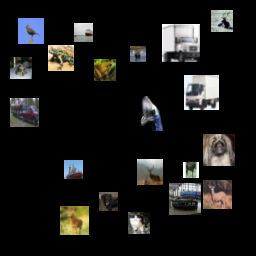automobile: (169, 183, 201, 215)
bird: (130, 96, 165, 131), (18, 18, 44, 44)
cat: (128, 212, 150, 234)
deer: (203, 180, 232, 209), (60, 206, 89, 235), (137, 159, 163, 185), (211, 10, 233, 32), (130, 46, 146, 62)
dog: (203, 134, 235, 166), (10, 57, 32, 79), (99, 192, 118, 211)
frog: (48, 45, 74, 71), (94, 59, 116, 81)
ship: (64, 160, 83, 179), (74, 23, 93, 42)
